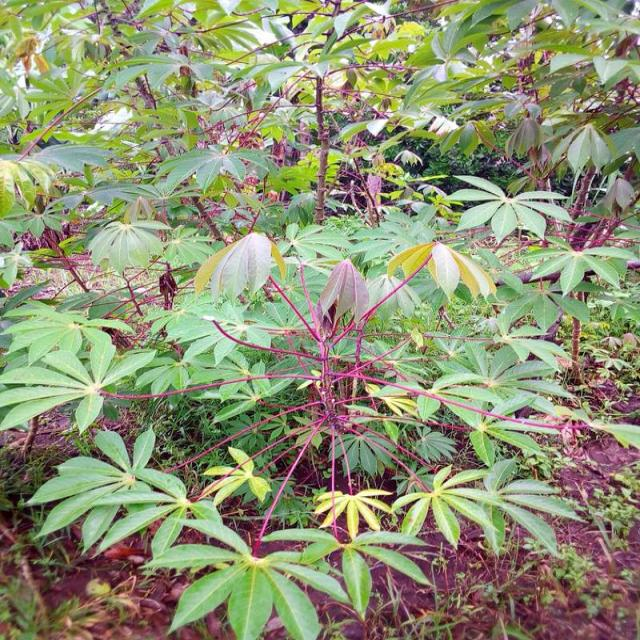cassava leaf: (194, 230, 285, 305), (87, 195, 172, 274)
